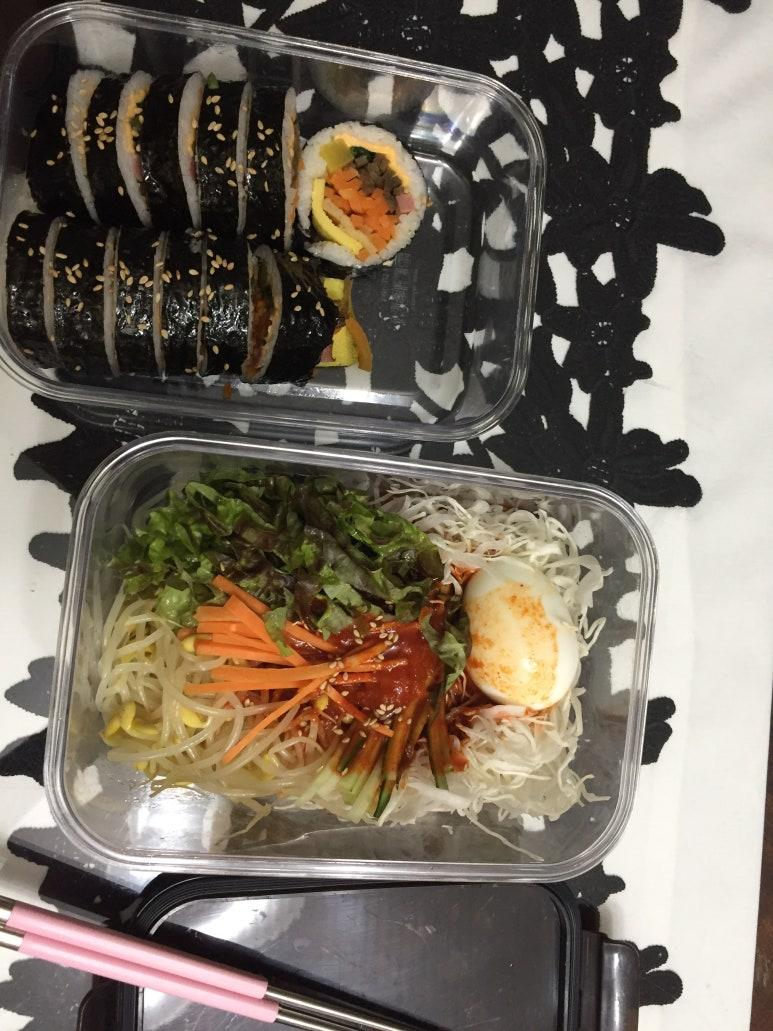Lunch Box: (45, 435, 657, 880), (0, 3, 545, 443), (124, 877, 639, 1030)
